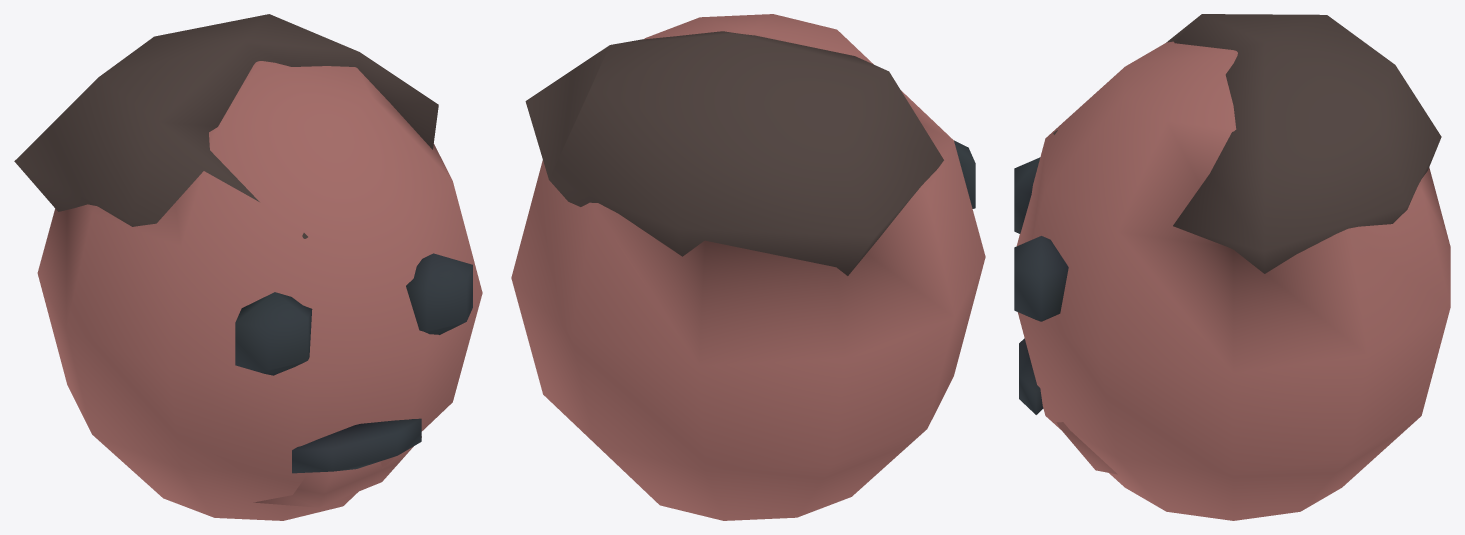
File: neckhead.glb
3 views of the same model, side by side, from view 1: azimuth 30°, elevation 25°; view 2: azimuth 150°, elevation 25°; view 3: azimuth 270°, elevation 25° (orthographic). The views are drawn at different scales.
Parts seen in each view (by area): view 1: fx_neckhead_m0; view 2: fx_neckhead_m0; view 3: fx_neckhead_m0.
Part boxes in pixels (x1,y1,x2,y2): fx_neckhead_m0: (14,14,482,520); fx_neckhead_m0: (511,14,985,520); fx_neckhead_m0: (1014,14,1450,520).
Bounding box in the file's own units: 0.4402 × 0.49 × 0.4205.
